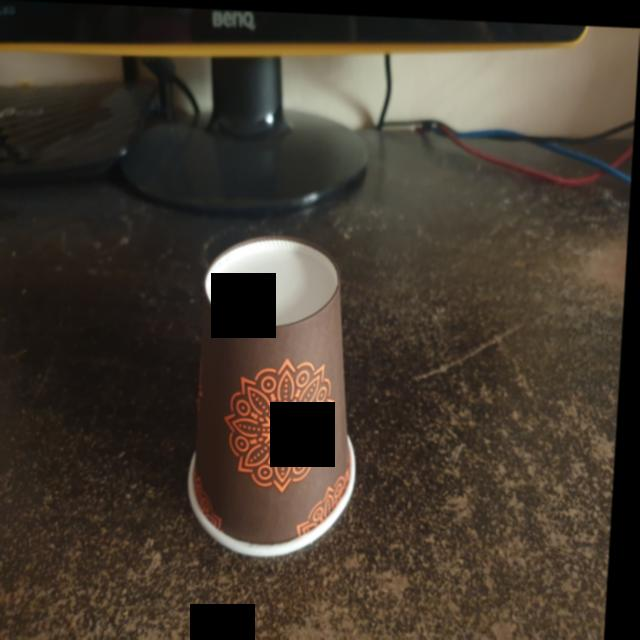cups: (178, 226, 383, 565)
